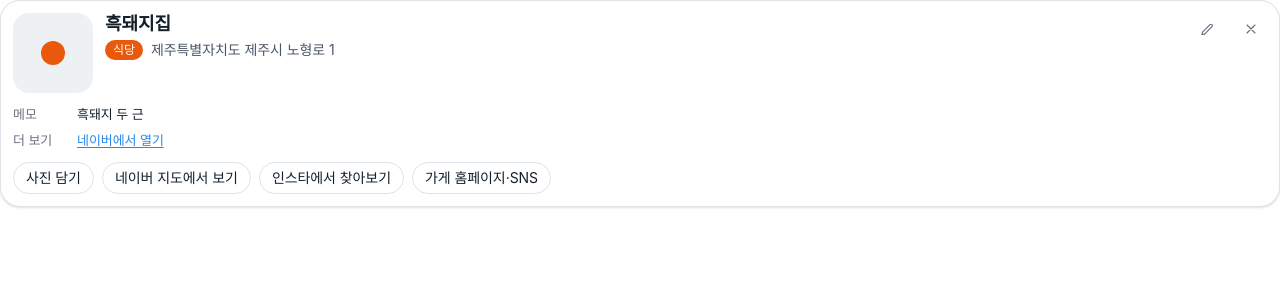
PreviewCard — 모바일 바텀시트 (FR-006 / 뎁스 2) › 사진·이름·카테고리·메모·행동 버튼을 한 자리에 모은다
Expected: the element with test id "preview-card" shows "흑돼지집", [105,13,171,34]
Expected: the element with test id "preview-card" shows "식당", [113,42,135,56]
Step 1. Click the button named "고치기" → [1207, 29], box [1191,13,1223,45]
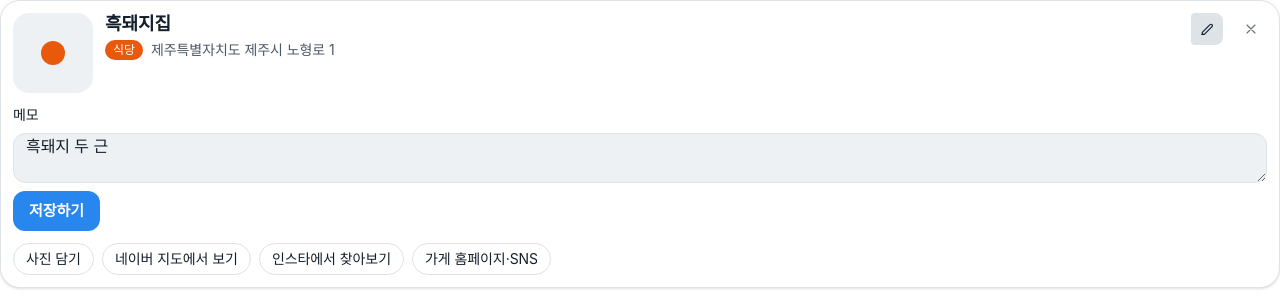
Expected: the file field labelled "사진 담기" is shown, [13,243,94,275]
Result: the text box labelled "메모" holds "흑돼지 두 근" at [13,133,1267,183]
Result: the button "저장하기" is shown at [13,191,100,231]
